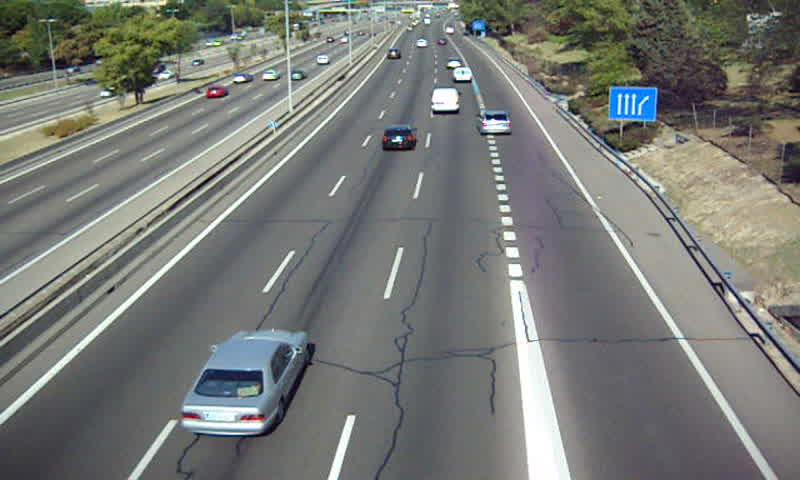car: (180, 328, 310, 436), (380, 123, 417, 151), (478, 108, 512, 134)
van: (430, 88, 460, 114), (454, 66, 473, 84)
